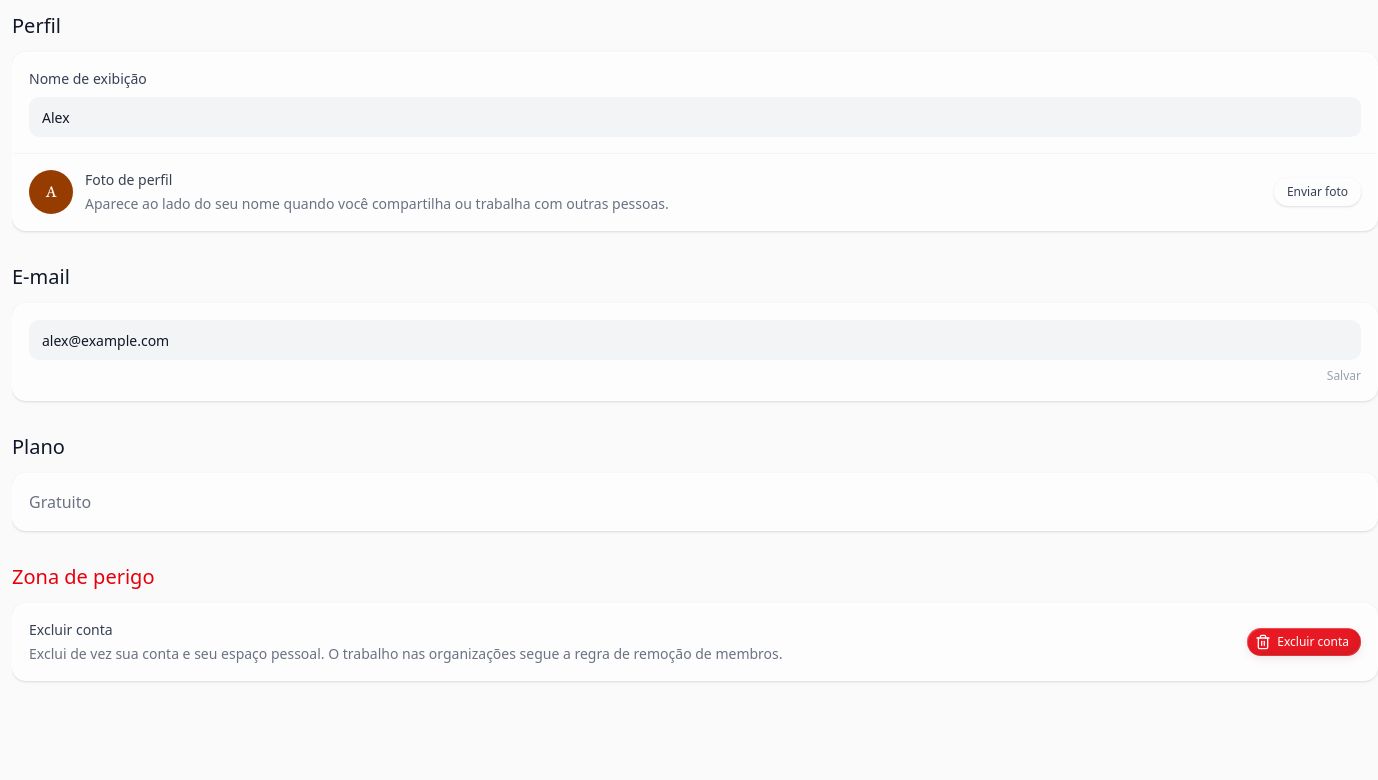
Scenario: SettingsPage Google email changes › says the connection failed rather than blaming the address
Step 1. Replace the text in the field with placeholder "Digite seu e-mail" with "new@example.com" → [695, 340], box 29,320 -> 1361,360
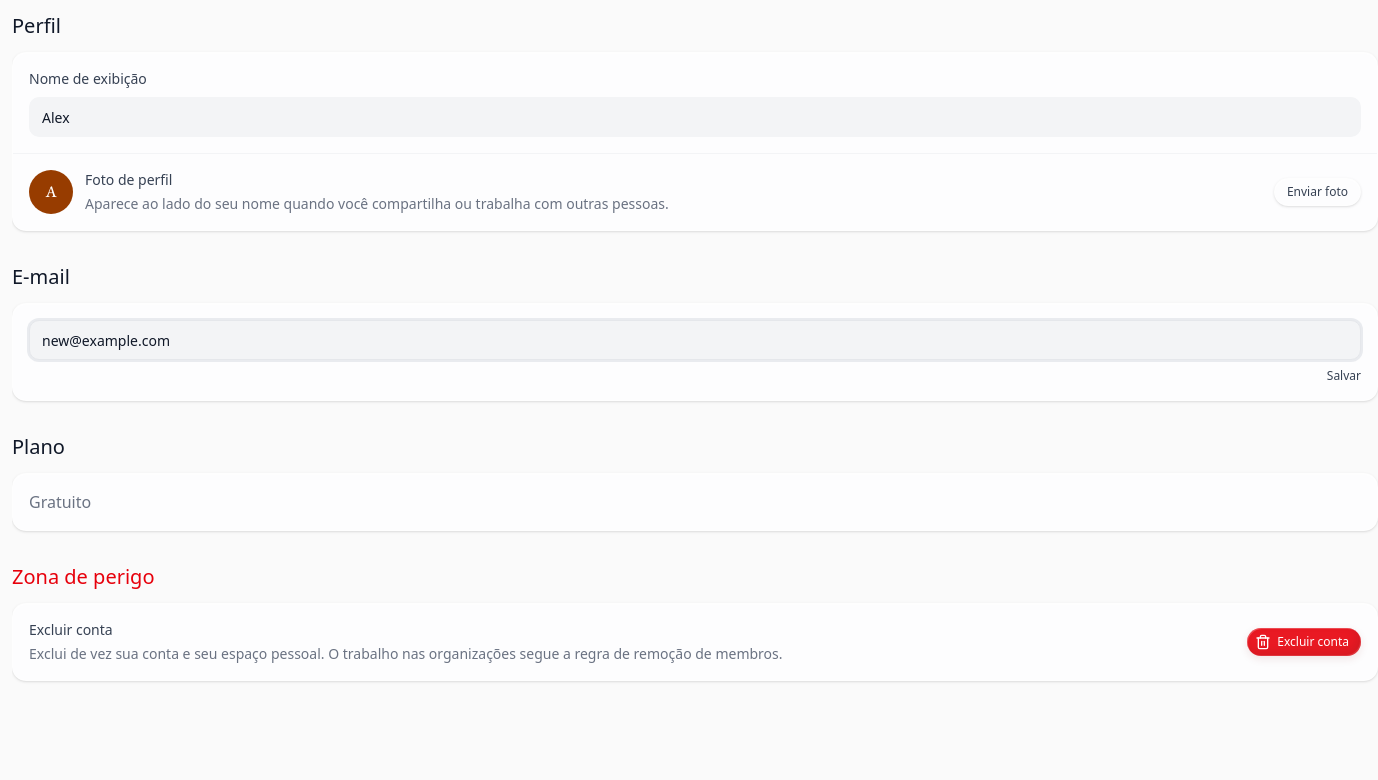
Step 2. Click the button "Salvar" → [1344, 376], box 1327,368 -> 1361,384
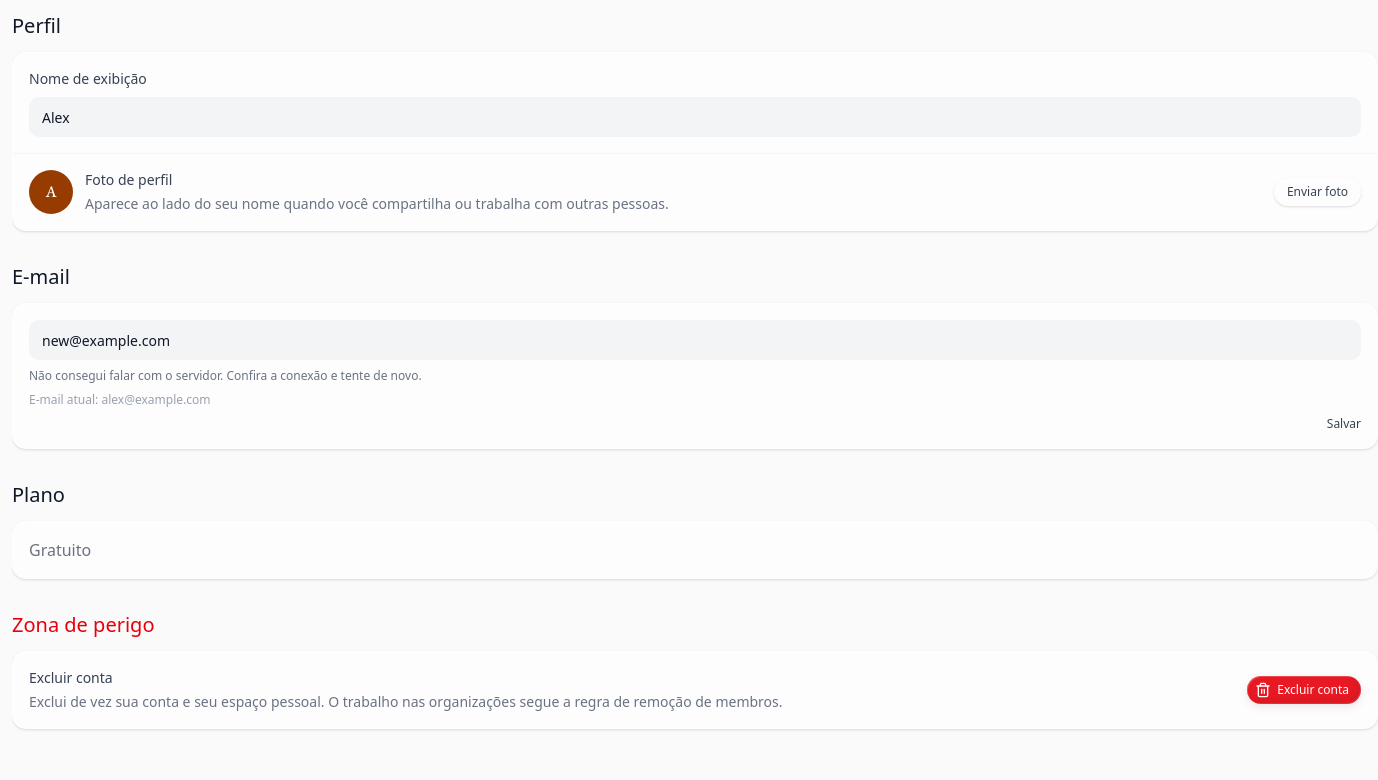
expect the text "Não consegui falar com o servidor. Confira a conexão e tente de novo." is shown: met, box 29,367 -> 422,384
